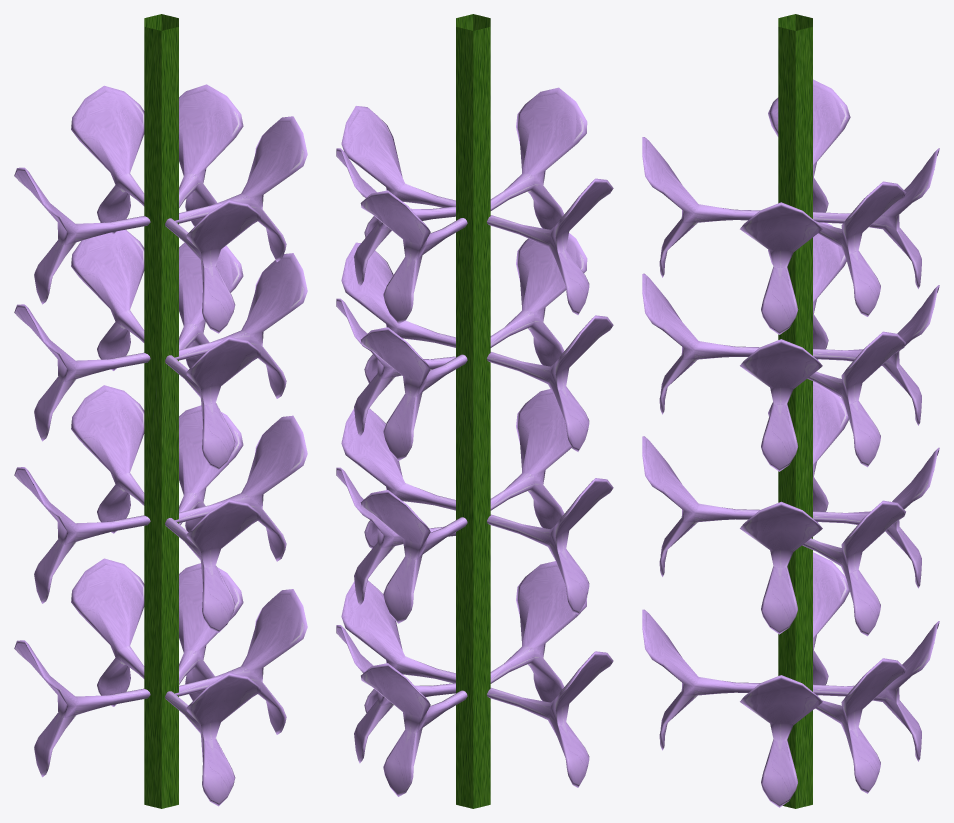
The model's file is wisteriaflower.fbx.
3 renders of one model, left to right at view 1: azimuth 30°, elevation 25°; view 2: azimuth 150°, elevation 25°; view 3: azimuth 270°, elevation 25°, orthographic.
Visible parts, largest first — view 1: pCylinder1, flower37, flower45, flower49, flower41, flower56, flower36, flower44, flower48, flower47, flower51, flower43 (+9 smaller); view 2: pCylinder1, flower39, flower51, flower47, flower43, flower37, flower49, flower41, flower45, flower36, flower48, flower44 (+9 smaller); view 3: pCylinder1, flower48, flower40, flower44, flower36, flower58, flower57, flower56, flower59, flower51, flower39, flower47 (+9 smaller).
Part boxes in pixels (x1,y1,x2,y2): pCylinder1: [144, 14, 178, 808]; flower37: [71, 85, 144, 234]; flower45: [71, 385, 144, 533]; flower49: [71, 558, 144, 706]; flower41: [71, 229, 144, 370]; flower56: [179, 84, 243, 226]; flower36: [175, 116, 307, 261]; flower44: [175, 415, 307, 561]; flower48: [175, 589, 307, 734]; flower47: [165, 499, 260, 632]; flower51: [165, 672, 260, 806]; flower43: [165, 336, 260, 470]; pCylinder1: [456, 14, 490, 808]; flower39: [490, 87, 587, 229]; flower51: [490, 561, 587, 702]; flower47: [490, 389, 571, 528]; flower43: [490, 233, 587, 366]; flower37: [360, 190, 467, 324]; flower49: [361, 663, 467, 796]; flower41: [361, 327, 467, 460]; flower45: [360, 490, 467, 623]; flower36: [341, 106, 455, 237]; flower48: [341, 580, 455, 713]; flower44: [341, 408, 455, 548]; pCylinder1: [778, 14, 812, 808]; flower48: [740, 675, 822, 807]; flower40: [740, 339, 822, 471]; flower44: [740, 501, 822, 634]; flower36: [740, 202, 822, 334]; flower58: [802, 500, 905, 636]; flower57: [807, 331, 905, 467]; flower56: [815, 181, 906, 316]; flower59: [815, 658, 905, 793]; flower51: [642, 609, 760, 750]; flower39: [642, 137, 759, 277]; flower47: [642, 436, 759, 576].
Size of the model in its own units: 0.3021 by 0.8792 by 0.3048.
